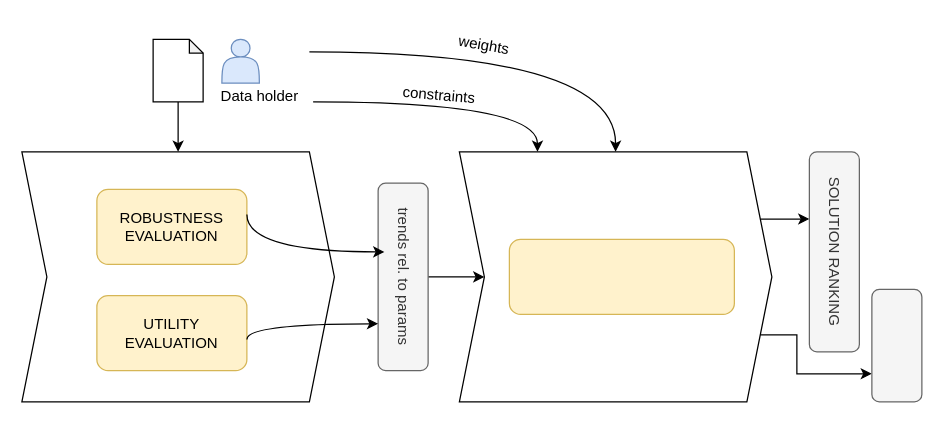
The diagram is 944 pixels wide and 425 high, and some of its shapes have lost their labels. Each missing label, with the centre of its shape:
"GENERAL QUALITY FUNTION" goes at point (621, 276).
"RISKS" goes at point (896, 345).
